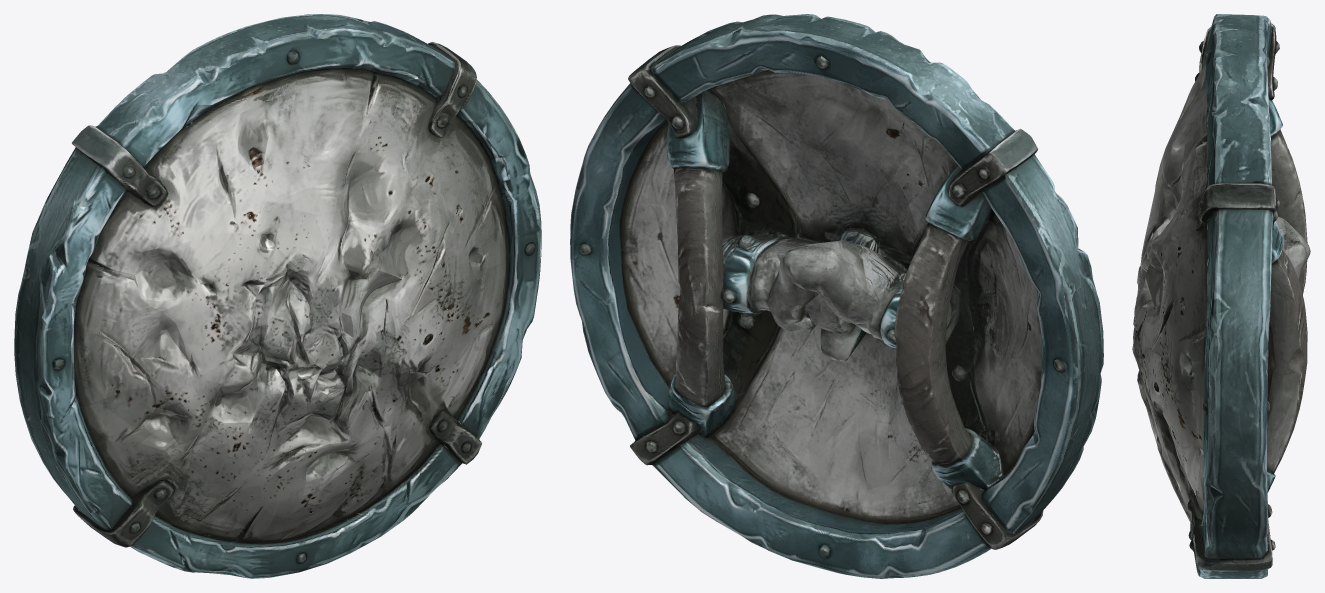
Rendered from scudo_prima_veglia.glb.
The picture shows the model from 3 angles, left to right: view 1: azimuth 30°, elevation 25°; view 2: azimuth 150°, elevation 25°; view 3: azimuth 270°, elevation 25°; orthographic projection. The views are drawn at different scales.
Size of the model in its own units: 1.89 by 1.9 by 0.5979.
Materials: 1 (1 with a texture image).
